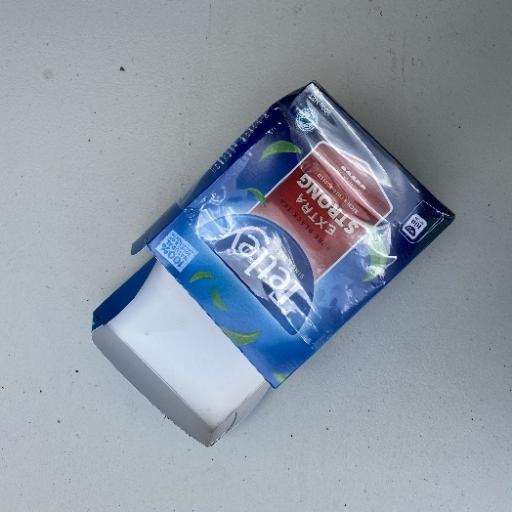Cardboard: (89, 79, 456, 448)
